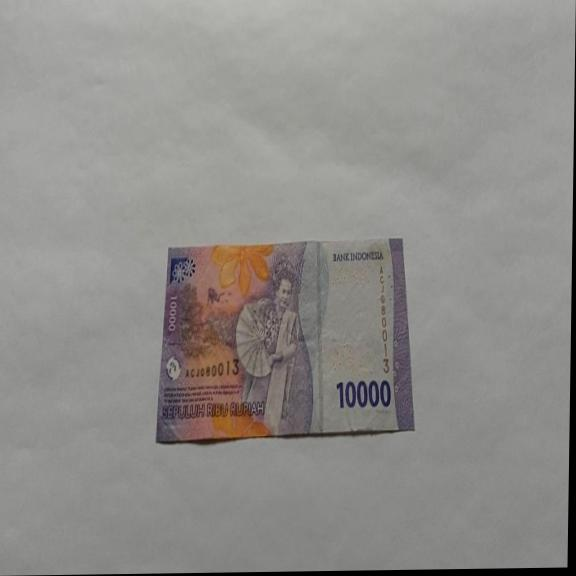Kertas: (154, 235, 417, 444), (335, 376, 392, 411)
